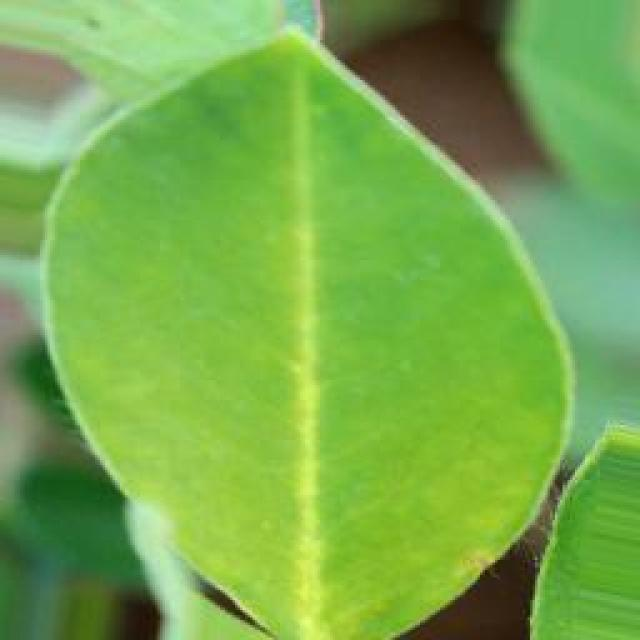Yellow_and_black_sigatoka: (38, 18, 576, 631)
